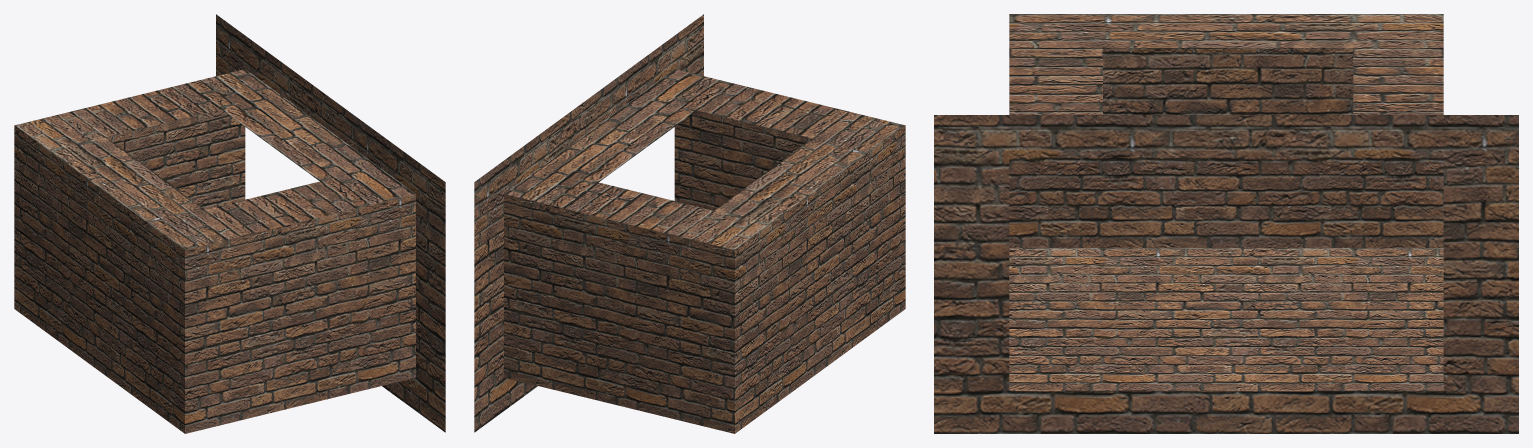
Rendered from FireplacePreview.fbx.
3 views of the same model, side by side, from view 1: azimuth 30°, elevation 25°; view 2: azimuth 150°, elevation 25°; view 3: azimuth 270°, elevation 25° (orthographic). The views are drawn at different scales.
Visible parts, largest first — view 1: FirePlaceHolder; view 2: FirePlaceHolder; view 3: FirePlaceHolder.
Part boxes in pixels (x1,y1,x2,y2): FirePlaceHolder: (14,14,445,433); FirePlaceHolder: (474,14,905,433); FirePlaceHolder: (934,14,1518,433).
Size of the model in its own units: 47.77 by 49.55 by 82.31.
